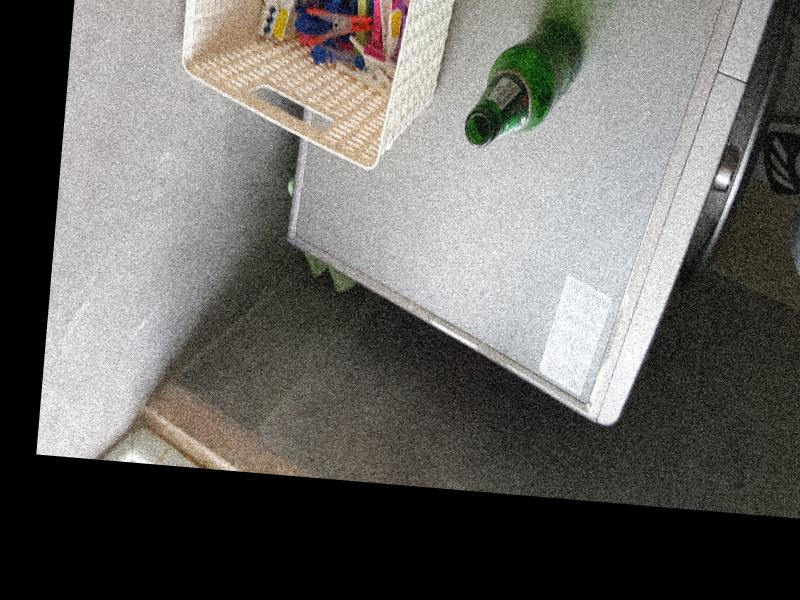Beer: (464, 15, 586, 156)
